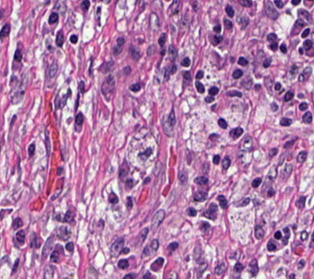nucleus: (11, 75, 26, 103), (101, 75, 114, 100), (151, 209, 164, 229), (110, 238, 123, 256), (203, 203, 217, 219), (50, 245, 62, 262), (42, 238, 52, 257), (57, 226, 70, 240), (151, 257, 163, 270), (167, 108, 175, 126), (119, 161, 128, 177), (241, 136, 251, 150), (48, 62, 57, 77), (100, 61, 112, 72), (139, 148, 151, 159), (249, 259, 257, 275), (267, 166, 276, 180), (139, 228, 148, 242), (149, 239, 158, 253), (168, 45, 176, 60), (230, 127, 242, 137), (194, 191, 206, 201), (64, 210, 74, 222), (130, 47, 139, 60), (217, 195, 226, 208), (44, 265, 53, 278), (16, 230, 24, 244), (215, 263, 225, 274), (56, 31, 63, 46), (194, 176, 207, 184), (255, 225, 263, 238), (118, 259, 128, 269), (195, 81, 204, 92), (13, 218, 22, 229), (210, 36, 222, 44), (75, 113, 83, 125), (158, 33, 165, 46), (232, 69, 242, 78), (234, 262, 243, 272), (129, 83, 140, 91), (222, 157, 230, 168), (109, 192, 117, 203), (14, 49, 21, 61), (179, 171, 186, 183), (237, 198, 249, 205), (181, 57, 190, 66), (209, 86, 218, 95), (252, 178, 261, 187), (200, 222, 209, 231), (116, 37, 124, 47), (218, 118, 226, 128), (125, 178, 133, 188), (267, 33, 276, 41), (113, 45, 121, 54), (238, 57, 247, 65), (28, 143, 34, 155), (267, 241, 275, 250), (65, 242, 73, 251), (168, 242, 177, 250), (227, 91, 241, 96), (269, 148, 277, 156), (263, 58, 270, 67), (183, 71, 190, 80), (187, 208, 196, 215), (13, 259, 18, 271), (70, 35, 77, 43), (270, 42, 277, 50), (267, 188, 274, 196), (127, 197, 132, 208), (213, 155, 219, 164), (123, 67, 130, 74), (196, 71, 203, 78), (274, 231, 281, 238), (147, 46, 153, 54), (169, 65, 175, 73), (274, 82, 280, 90), (205, 96, 213, 102), (143, 272, 151, 278), (79, 81, 83, 92), (271, 103, 277, 110), (124, 274, 134, 278), (121, 248, 128, 253), (255, 84, 260, 89), (57, 168, 61, 173)
